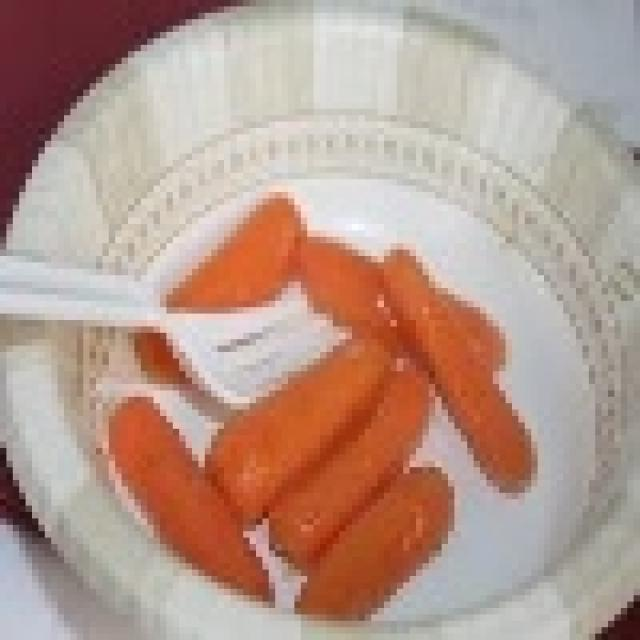Fresh_Carrot: (70, 205, 542, 600)
